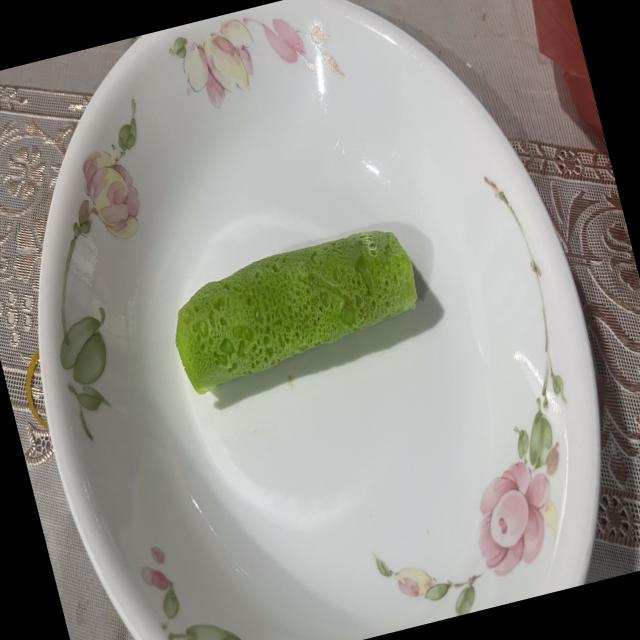Kuih-Ketayap: (175, 230, 417, 393)
